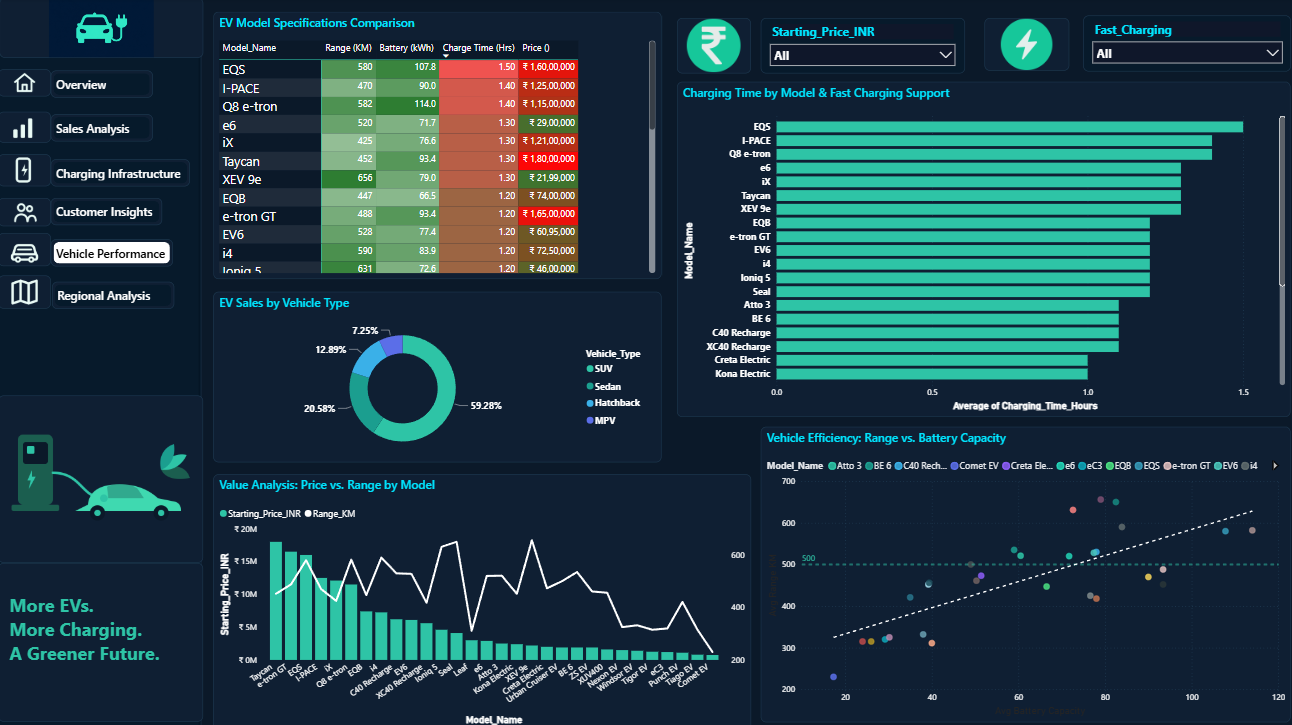

The page's visual inventory and layout, read from the dashboard file:
{"tool":"powerbi","page":{"name":"Vehicle Performance","canvas":[1920,1080],"ordinal":4},"visuals":[{"type":"scatterChart","title":"Vehicle Efficiency: Range vs. Battery Capacity","fields":{"Series":["Vehicle_Master.Model_Name"],"X":["Vehicle_Master.Avg Battery Capacity"],"Y":["Vehicle_Master.Avg Range KM"]},"box":[1125.4,631.9,781.3,435],"z":0},{"type":"clusteredBarChart","title":"Charging Time by Model & Fast Charging Support","fields":{"Category":["Vehicle_Master.Model_Name"],"Y":["Avg(Vehicle_Master.Charging_Time_Hours)"]},"box":[1002,123.4,904.6,493.4],"z":1000},{"type":"lineClusteredColumnComboChart","title":"Value Analysis: Price vs. Range by Model","fields":{"Category":["Vehicle_Master.Model_Name"],"Y":["Sum(Vehicle_Master.Starting_Price_INR)"],"Y2":["Max(Vehicle_Master.Range_KM)"]},"box":[318.1,701.2,792.1,378.7],"z":2000},{"type":"slicer","fields":{"Values":["Vehicle_Master.Fast_Charging"]},"box":[1599.3,26,307.3,82.2],"z":3000},{"type":"slicer","fields":{"Values":["Vehicle_Master.Starting_Price_INR"]},"box":[1125.4,30.3,300.4,81.4],"z":4000},{"type":"pivotTable","title":"EV Model Specifications Comparison","fields":{"Rows":["Vehicle_Master.Model_Name"],"Values":["Vehicle_Master.Avg Range KM","Vehicle_Master.Avg Battery Capacity","Vehicle_Master.Avg Charging Time","Vehicle_Master.Avg Starting Price"]},"box":[318.1,19.5,660.1,393.9],"z":5000},{"type":"image","box":[1002,30.3,108.6,81.4],"z":6000},{"type":"image","box":[1454.3,30.3,124.9,77.8],"z":7000},{"type":"shape","box":[0,0,300.8,1079.9],"z":8000},{"type":"image","box":[1.8,585.3,301.8,246.6],"z":9000},{"type":"textbox","box":[1.8,831.9,301.8,233.7],"z":10000},{"type":"image","box":[3.7,0,300,88.3],"z":11000},{"type":"donutChart","title":"EV Sales by Vehicle Type","fields":{"Category":["Vehicle_Master.Vehicle_Type"],"Y":["Sum(EV_Sales.Units_Sold)"]},"box":[318.1,432.8,660.1,251],"z":12000},{"type":"image","box":[1.8,105,77.8,39.8],"z":13000},{"type":"image","box":[1.8,168.3,77.8,45.2],"z":14000},{"type":"image","box":[1.8,229.8,77.8,47.1],"z":15000},{"type":"image","box":[1.8,295,77.8,41.6],"z":16000},{"type":"image","box":[1.8,345.6,77.8,48.9],"z":17000},{"type":"image","box":[1.8,409,77.8,48.9],"z":18000},{"type":"actionButton","box":[79.6,106.8,150,40],"z":19000},{"type":"actionButton","box":[79.6,171.9,150,40],"z":20000},{"type":"actionButton","box":[79.6,237.1,205.1,39.8],"z":21000},{"type":"actionButton","box":[79.6,295,164.1,39.8],"z":22000},{"type":"actionButton","box":[79.6,354.7,179.8,39.8],"z":23000},{"type":"actionButton","box":[81.4,418,179.8,39.8],"z":24000}]}

Visuals, with their boxes on the page's 1920x1080 design canvas (x1, y1, x2, y2). These are canvas units, not pixel positions in the 1292x725 screenshot, which may show the page scaled, cropped or inside an application window:
"Vehicle Efficiency: Range vs. Battery Capacity" scatterChart: left=1125, top=632, right=1907, bottom=1067
"Charging Time by Model & Fast Charging Support" clusteredBarChart: left=1002, top=123, right=1907, bottom=617
"Value Analysis: Price vs. Range by Model" lineClusteredColumnComboChart: left=318, top=701, right=1110, bottom=1080
slicer - Vehicle_Master.Fast_Charging: left=1599, top=26, right=1907, bottom=108
slicer - Vehicle_Master.Starting_Price_INR: left=1125, top=30, right=1426, bottom=112
"EV Model Specifications Comparison" pivotTable: left=318, top=20, right=978, bottom=413
image: left=1002, top=30, right=1111, bottom=112
image: left=1454, top=30, right=1579, bottom=108
shape: left=0, top=0, right=301, bottom=1080
image: left=2, top=585, right=304, bottom=832
textbox: left=2, top=832, right=304, bottom=1066
image: left=4, top=0, right=304, bottom=88
"EV Sales by Vehicle Type" donutChart: left=318, top=433, right=978, bottom=684
image: left=2, top=105, right=80, bottom=145
image: left=2, top=168, right=80, bottom=214
image: left=2, top=230, right=80, bottom=277
image: left=2, top=295, right=80, bottom=337
image: left=2, top=346, right=80, bottom=394
image: left=2, top=409, right=80, bottom=458
actionButton: left=80, top=107, right=230, bottom=147
actionButton: left=80, top=172, right=230, bottom=212
actionButton: left=80, top=237, right=285, bottom=277
actionButton: left=80, top=295, right=244, bottom=335
actionButton: left=80, top=355, right=259, bottom=394
actionButton: left=81, top=418, right=261, bottom=458
